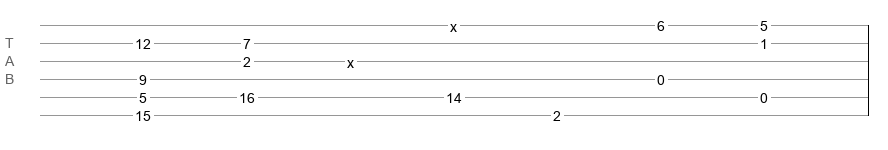0: (657, 72, 665, 82), (760, 90, 768, 100)
1: (760, 36, 768, 46)
12: (135, 36, 151, 46)
14: (446, 90, 462, 100)
15: (135, 108, 151, 118)
16: (239, 90, 255, 100)
2: (243, 54, 251, 64), (553, 108, 561, 118)
5: (139, 90, 147, 100), (760, 18, 768, 28)
6: (657, 18, 665, 28)
7: (243, 36, 251, 46)
9: (139, 72, 147, 82)
x: (347, 55, 354, 63), (450, 19, 457, 27)
